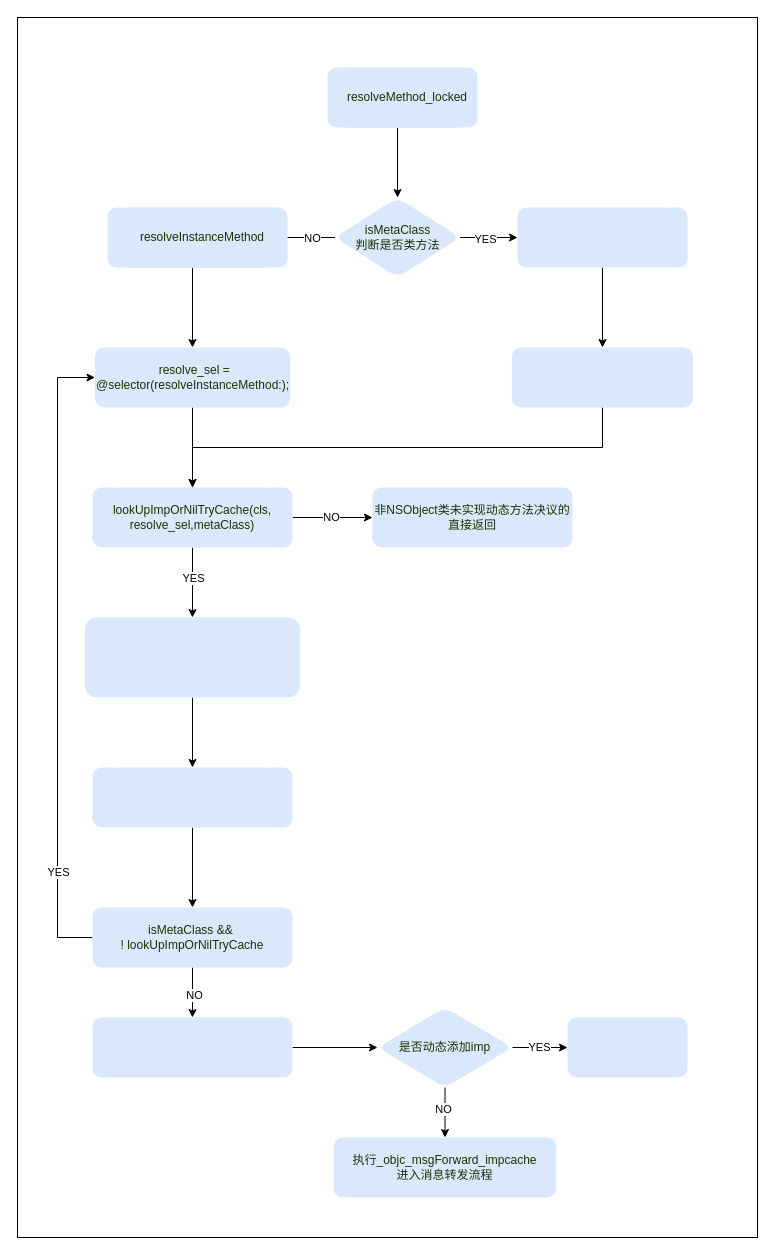
Image size: 775x1255. Some labels were removed from this diagram. The centre of each missing label's shape, as x and y in pixels:
lookUpImpOrForwardTryCache: pixel 192 1047
lookUpImpOrNilTryCache 添加到缓存: pixel 192 797
objc_msgSend(类对象, resolve_sel，sel) 如果动态方法决议实现了并且提供了解决问题的imp，将imp添加到方法列表: pixel 192 657
resolve_sel = @selector(resolveClassMethod:);: pixel 602 377
resolveClassMethod: pixel 602 237
执行动态添加的imp: pixel 627 1047
